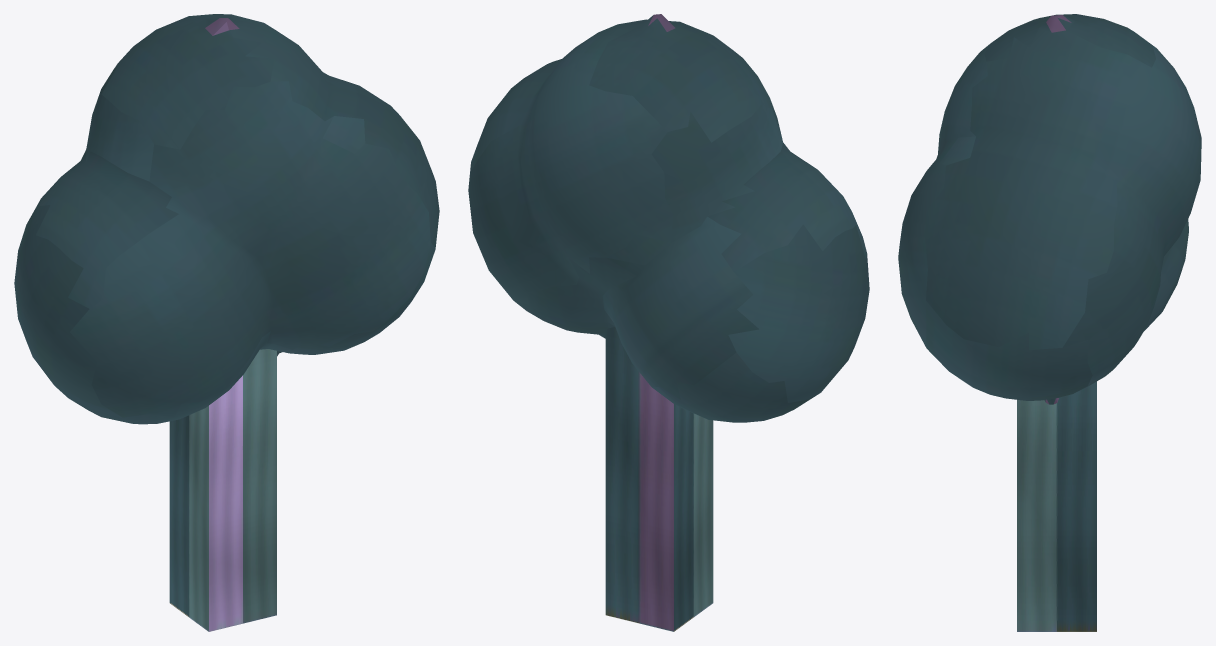
File: tree_crooked_c.glb
The picture shows the model from 3 angles, left to right: view 1: azimuth 30°, elevation 25°; view 2: azimuth 150°, elevation 25°; view 3: azimuth 270°, elevation 25°; orthographic projection.
Parts seen in each view (by area): view 1: lod0, col; view 2: lod0, col; view 3: lod0, col.
Boxes of the visible parts, box(x1,y1,x2,y2) form: lod0: box(14, 14, 439, 424); col: box(169, 349, 276, 631); lod0: box(468, 14, 869, 422); col: box(605, 327, 713, 631); lod0: box(898, 14, 1201, 404); col: box(1017, 381, 1096, 631).
Size of what is drawn, in the model's own units: 3.32 by 4.97 by 2.28.
2 materials, 2 textured.
